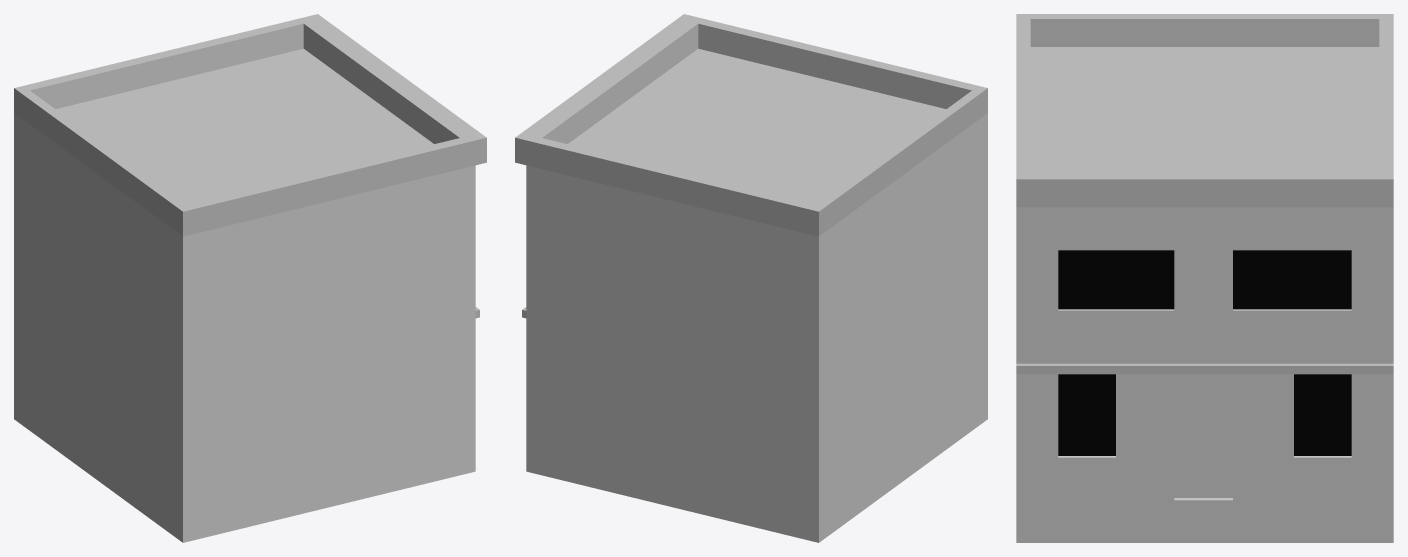
3 renders of one model, left to right at view 1: azimuth 30°, elevation 25°; view 2: azimuth 150°, elevation 25°; view 3: azimuth 270°, elevation 25°, orthographic. The views are drawn at different scales.
Visible parts, largest first — view 1: BrickBuilding6; view 2: BrickBuilding6; view 3: BrickBuilding6.
Part boxes in pixels (<box>): BrickBuilding6: <box>14,14,486,542</box>; BrickBuilding6: <box>515,14,987,542</box>; BrickBuilding6: <box>1016,14,1393,542</box>.
Size of the model in its own units: 10381 by 10816 by 10000.
